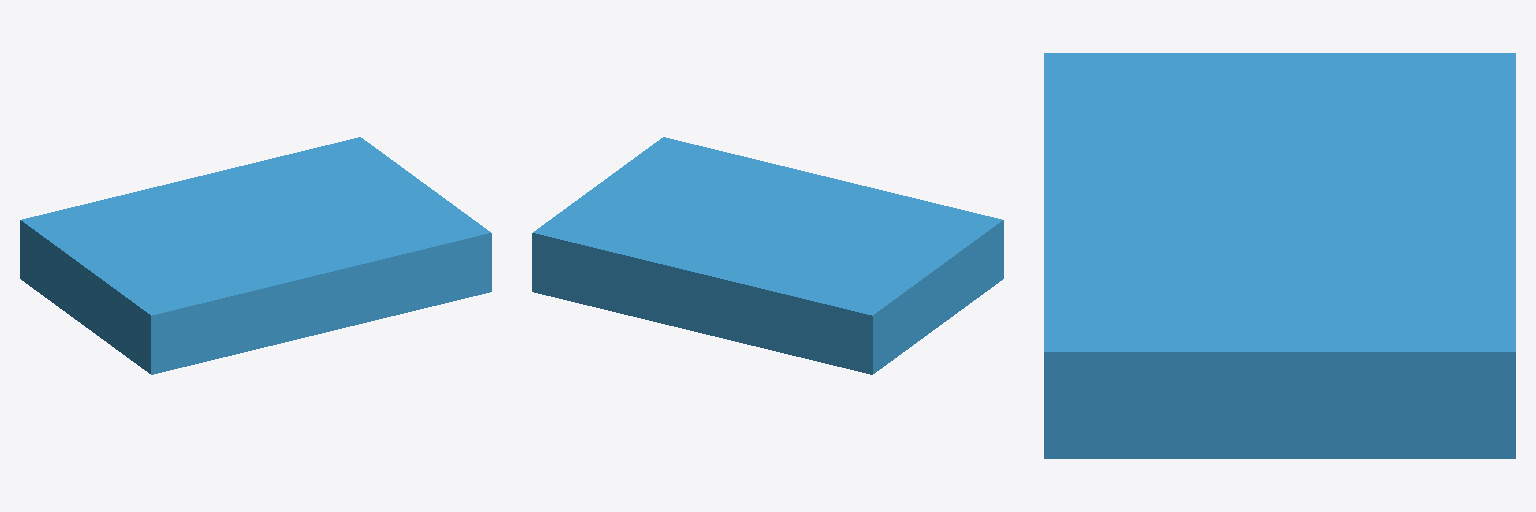
The robot description file, URDF, robot "robot_model":
<?xml version="1.0" ?>
<robot name="robot_model">

    <link name="world">
    </link>
    
    <link name="base_link">
        <visual>
          <geometry>
            <box size="0.3 0.2 0.05"/>
          </geometry>
        </visual>
    </link>
    
    <joint name="world_to_base" type="fixed">
        <parent link="world"/>
        <child link="base_link"/>
        <origin xyz="0 0 0" rpy="0 0 0"/>
    </joint>
    
</robot>

--- Facts derived from the render (not from the file) ---
Views: 3 orthographic renders of the robot side by side, from view 1: azimuth 30°, elevation 25°; view 2: azimuth 150°, elevation 25°; view 3: azimuth 270°, elevation 25°.
Model robot_model with 2 links and 1 joints (1 fixed), rooted at world, posed all joints at 0.
Links seen in each view (by area): view 1: base_link; view 2: base_link; view 3: base_link.
Link boxes in pixels (x1,y1,x2,y2): base_link: (20,137,491,374); base_link: (532,137,1003,374); base_link: (1044,53,1515,458).
Size in the robot's own frame: 0.3 by 0.2 by 0.05 metres.
Geometry: primitives only (box / cylinder / sphere), no mesh files.
